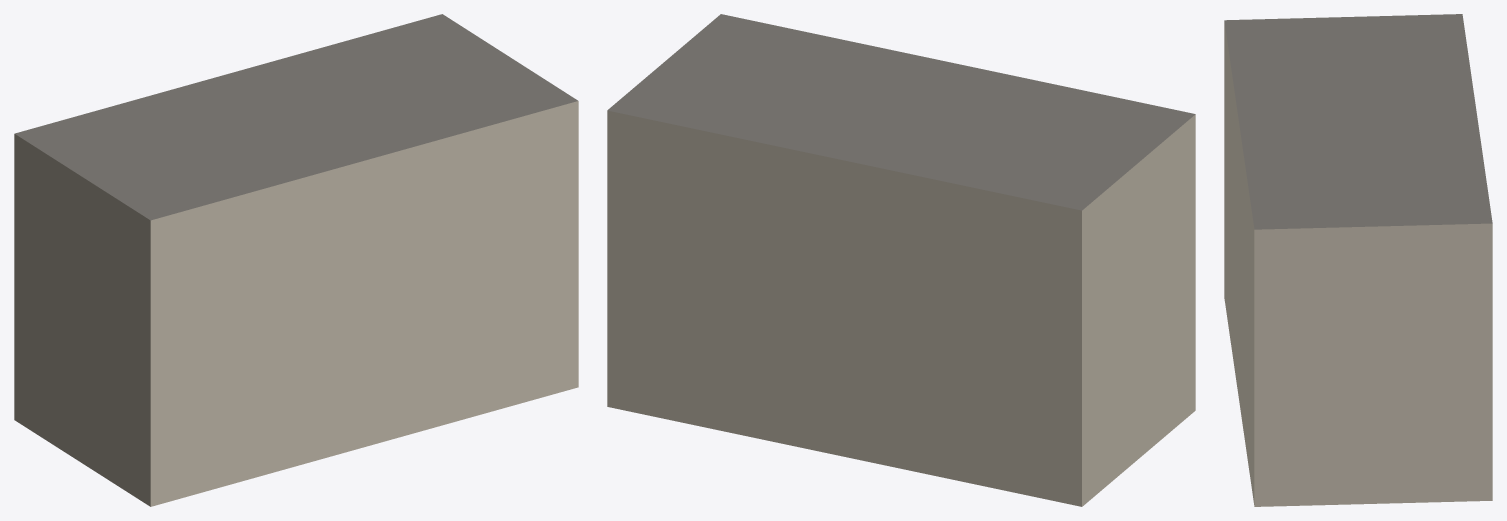
The picture shows the model from 3 angles, left to right: view 1: azimuth 30°, elevation 25°; view 2: azimuth 150°, elevation 25°; view 3: azimuth 270°, elevation 25°; orthographic projection. The views are drawn at different scales.
Parts seen in each view (by area): view 1: HP-w369317544; view 2: HP-w369317544; view 3: HP-w369317544.
Part boxes in pixels (x1=…): HP-w369317544: x1=14, y1=14, x2=578, y2=506; HP-w369317544: x1=607, y1=14, x2=1195, y2=506; HP-w369317544: x1=1224, y1=14, x2=1492, y2=506.
Size of the model in its own units: 30.02 by 18 by 15.79.
